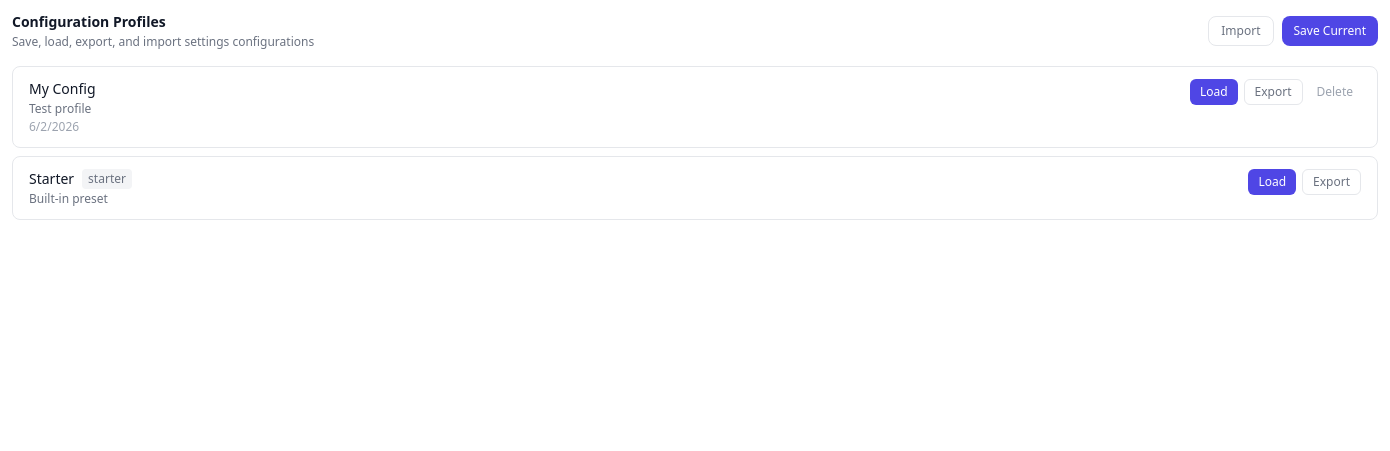
Test: ConfigProfiles › shows success message after saving
Click the button "Save Current" at (1330, 31), box left=1282, top=16, right=1378, bottom=46
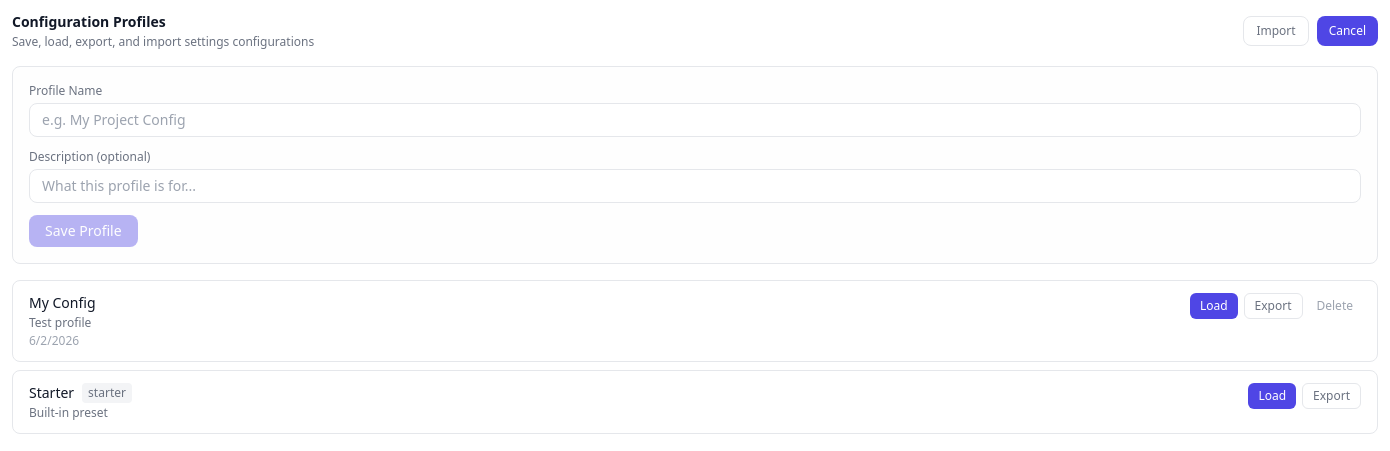
Type "Test" into the field with placeholder "e.g. My Project Config" at (695, 120), box left=29, top=103, right=1361, bottom=137
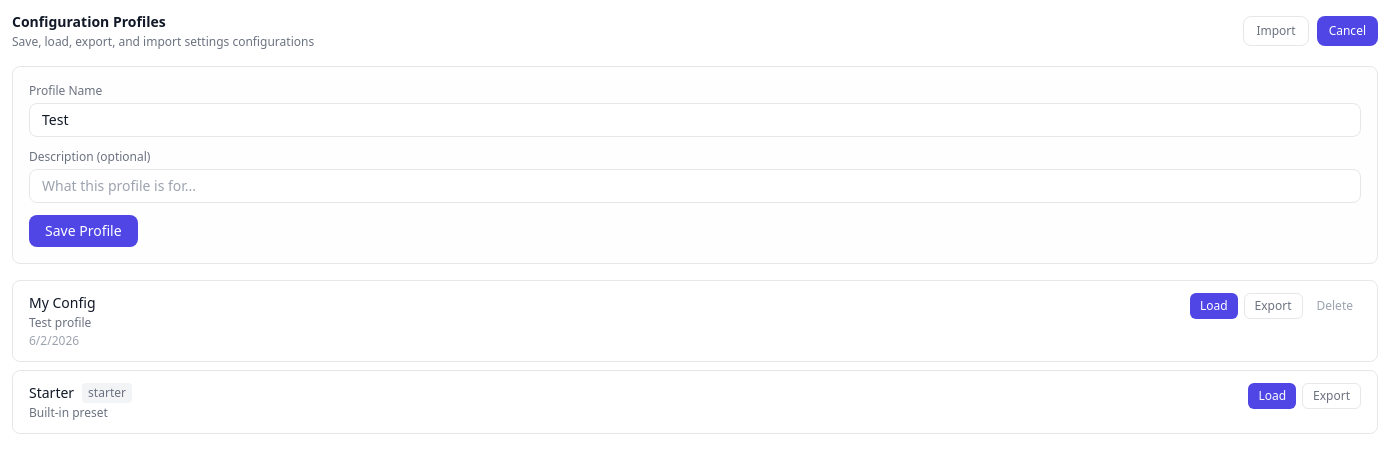
Click the button "Save Profile" at (83, 231), box left=29, top=215, right=138, bottom=247
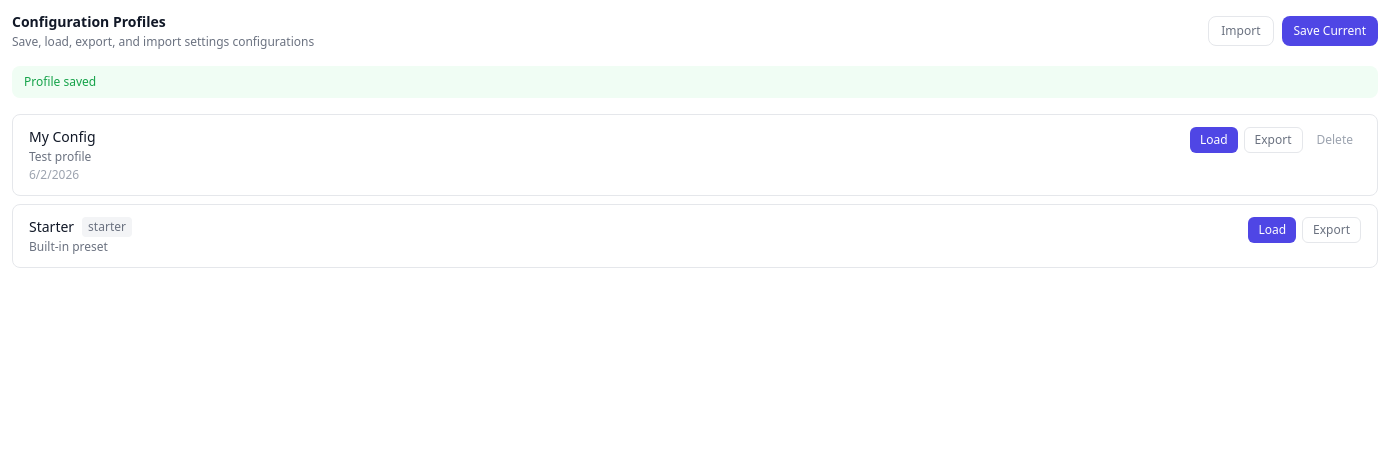
Now the text "Profile saved" is shown, box left=12, top=66, right=1378, bottom=98
